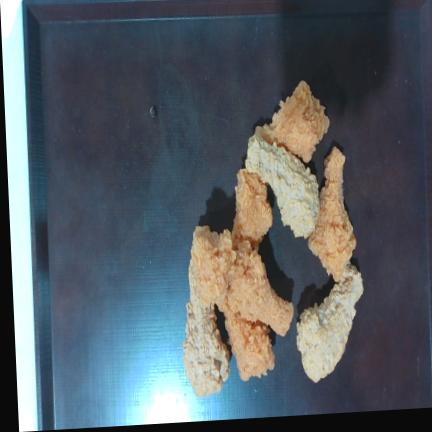chicken: (297, 264, 363, 382), (245, 134, 319, 238), (183, 258, 230, 397), (308, 147, 356, 280), (227, 242, 293, 336), (256, 81, 329, 162), (225, 304, 274, 381), (232, 168, 272, 248)
